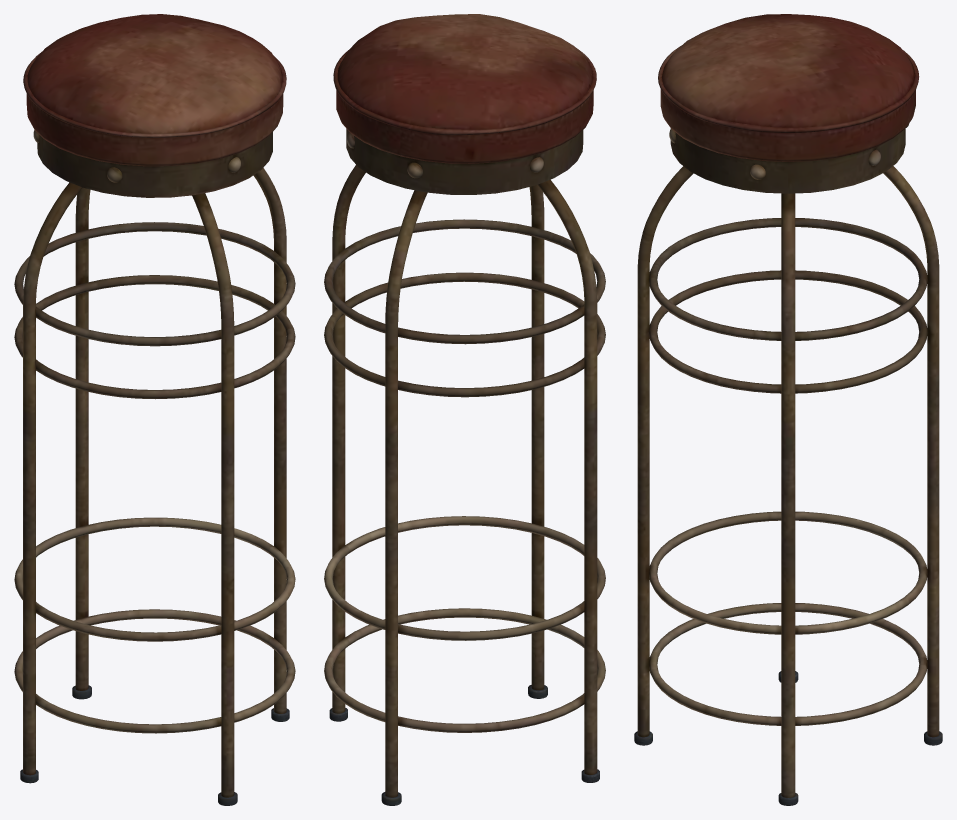
File: stool.glb
The picture shows the model from 3 angles, left to right: view 1: azimuth 30°, elevation 25°; view 2: azimuth 150°, elevation 25°; view 3: azimuth 270°, elevation 25°; orthographic projection.
Visible parts, largest first — view 1: metal_stool_01; view 2: metal_stool_01; view 3: metal_stool_01.
Boxes of the visible parts, x1,y1,x2,y2 form: metal_stool_01: (14, 14, 295, 805); metal_stool_01: (324, 14, 605, 805); metal_stool_01: (634, 14, 942, 805).
Bounding box in the file's own units: 0.352 × 0.8828 × 0.3546.
Materials: 1 (1 with a texture image).
